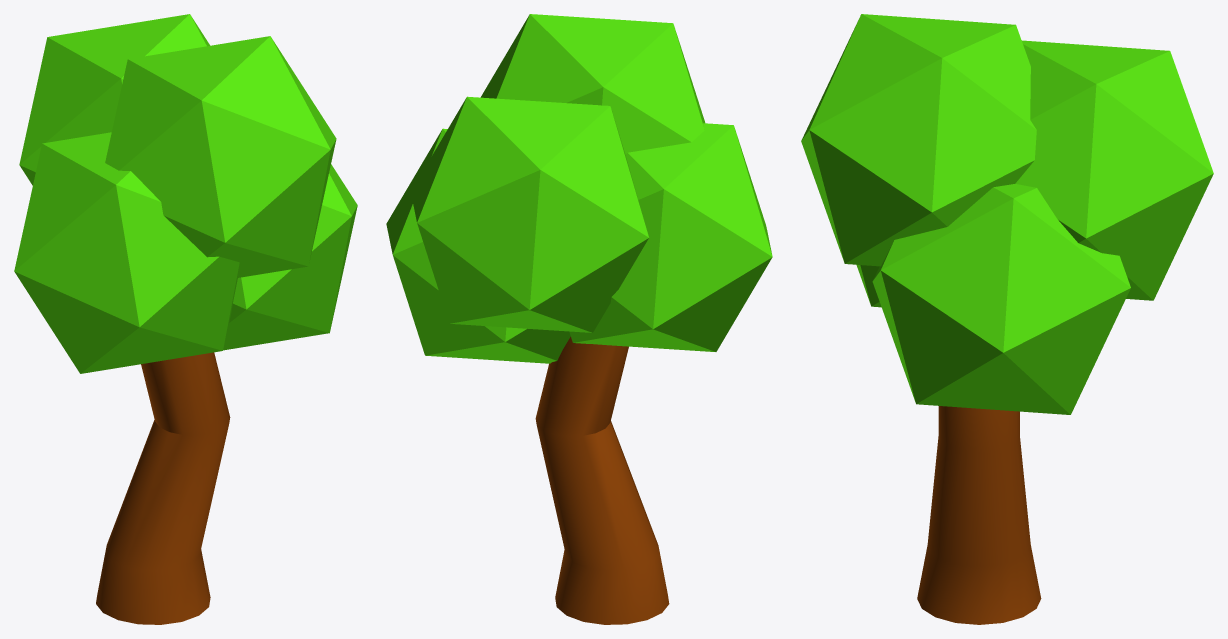
The model's file is lowpolyagac 1.fbx.
3 renders of one model, left to right at view 1: azimuth 30°, elevation 25°; view 2: azimuth 150°, elevation 25°; view 3: azimuth 270°, elevation 25°, orthographic. The views are drawn at different scales.
Parts seen in each view (by area): view 1: Icosphere; view 2: Icosphere; view 3: Icosphere.
Part boxes in pixels (left/top/right/bottom): Icosphere: left=14, top=14, right=357, bottom=624; Icosphere: left=386, top=14, right=772, bottom=624; Icosphere: left=801, top=14, right=1213, bottom=624.
Bounding box in the file's own units: 730 × 1054 × 665.
